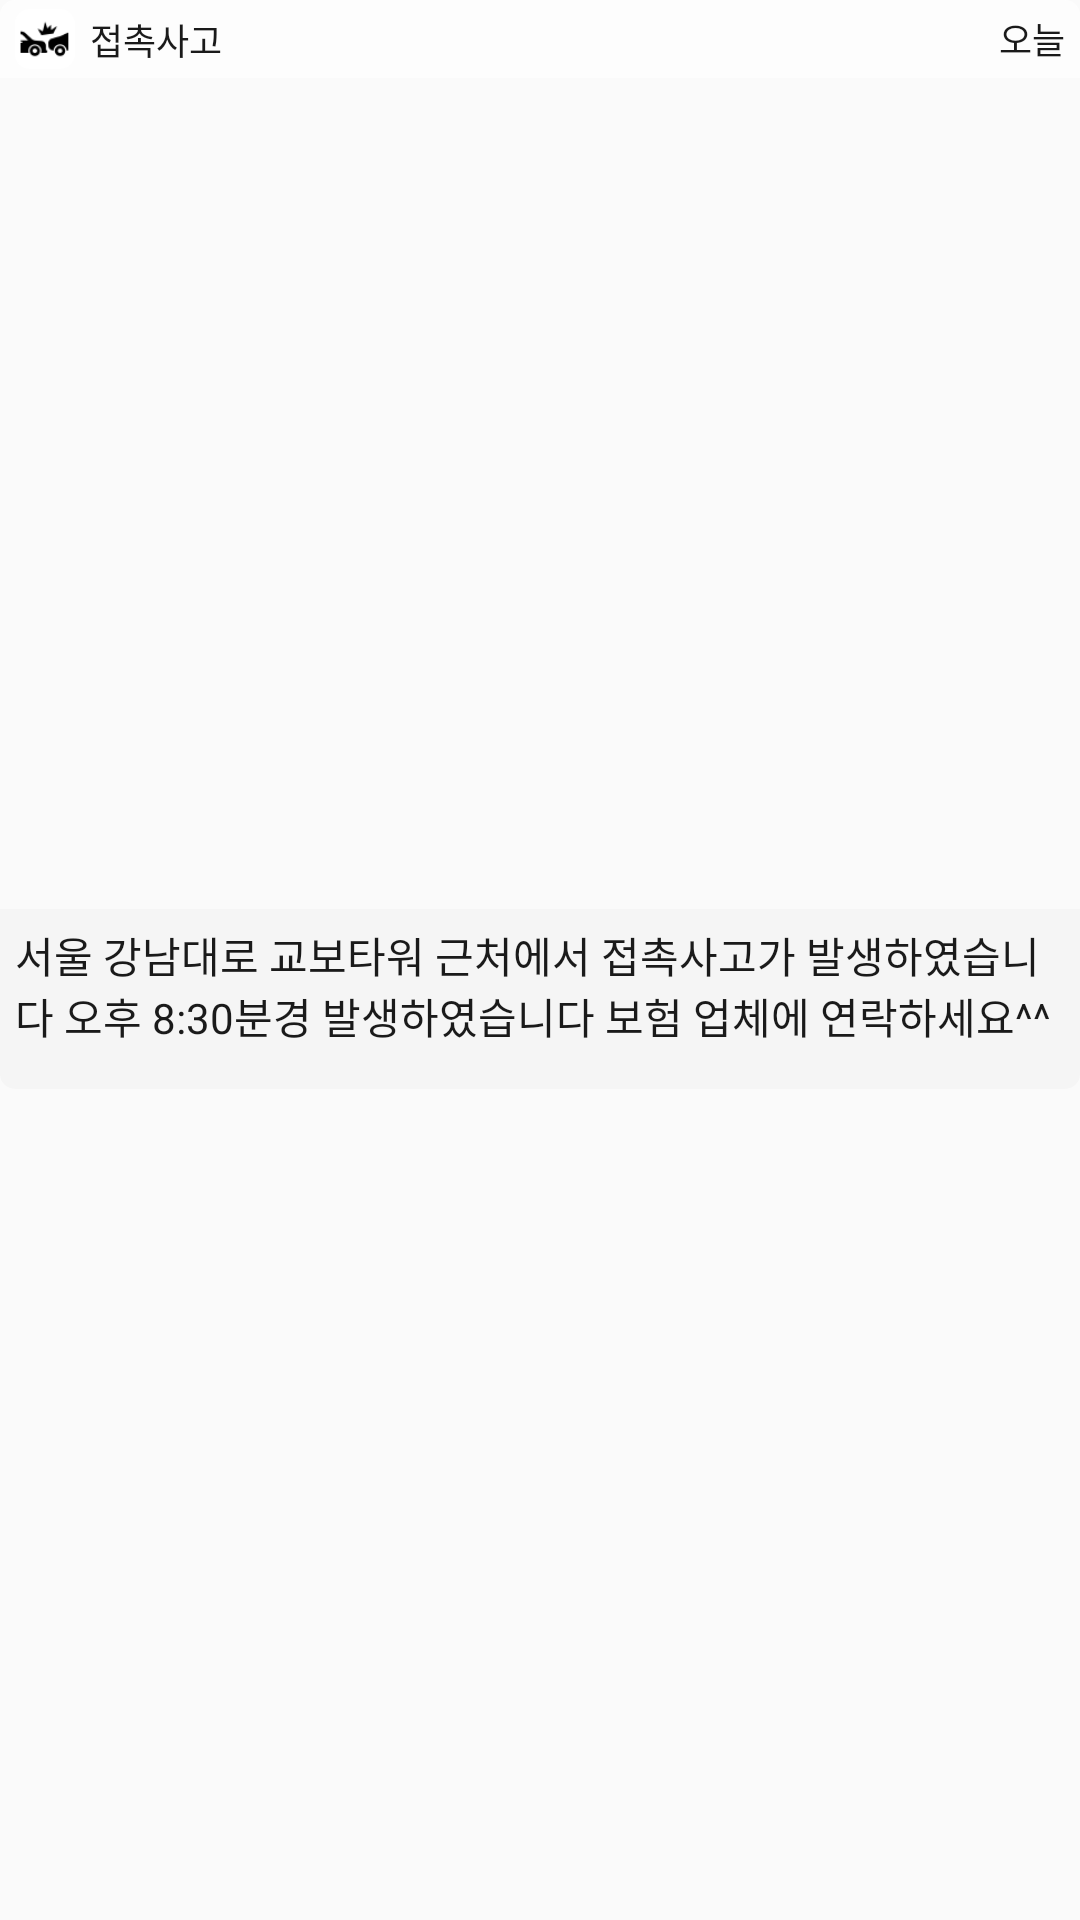

Named icons in this screenshot (1080 x 1920) and their bounding boxes, (x1, y1, x2, y2):
crash: (20, 22, 69, 57)
